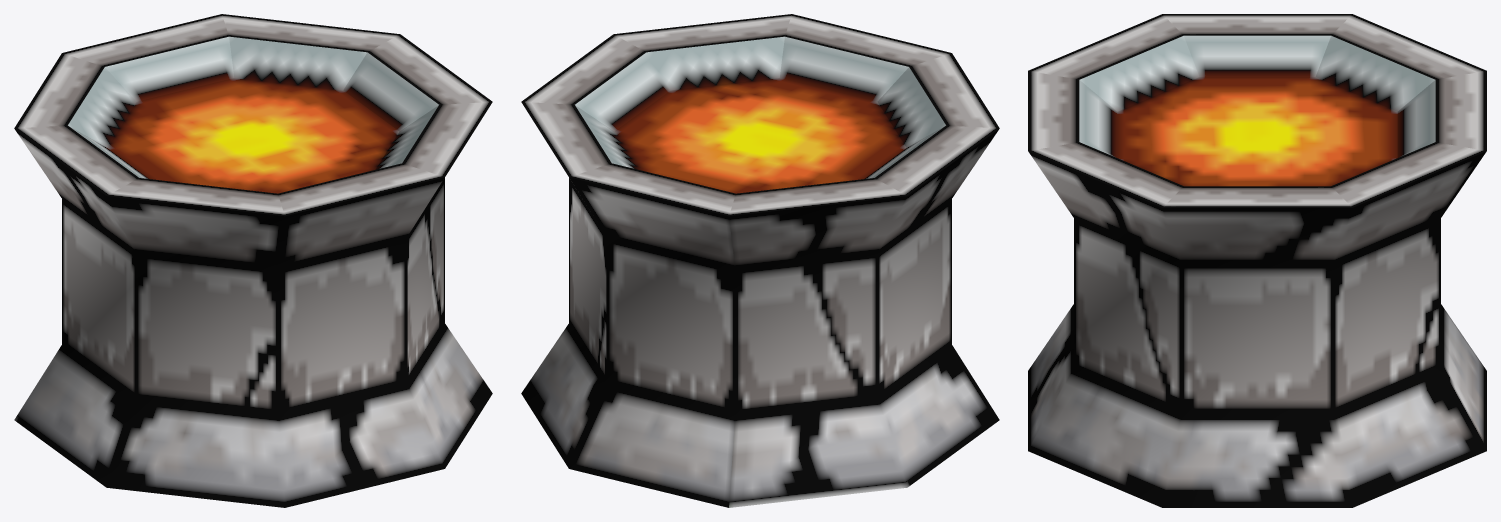
The model's file is deco_winter_brazier.FBX.
3 views of the same model, side by side, from view 1: azimuth 30°, elevation 25°; view 2: azimuth 150°, elevation 25°; view 3: azimuth 270°, elevation 25° (orthographic). The views are drawn at different scales.
Parts seen in each view (by area): view 1: deco_winter_brazier; view 2: deco_winter_brazier; view 3: deco_winter_brazier.
Boxes of the visible parts, left/top/right/bottom form: deco_winter_brazier: left=14, top=14, right=492, bottom=507; deco_winter_brazier: left=521, top=14, right=999, bottom=507; deco_winter_brazier: left=1028, top=14, right=1486, bottom=507.
Bounding box in the file's own units: 1.39 × 1 × 1.39.
1 material, 1 textured.
